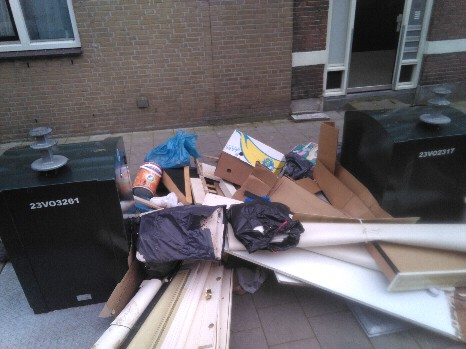Container: (3, 134, 132, 307), (342, 111, 466, 206)
Papier: (294, 130, 364, 222), (225, 128, 281, 183)
Rest: (233, 227, 466, 317), (121, 217, 234, 349), (145, 142, 224, 218)
